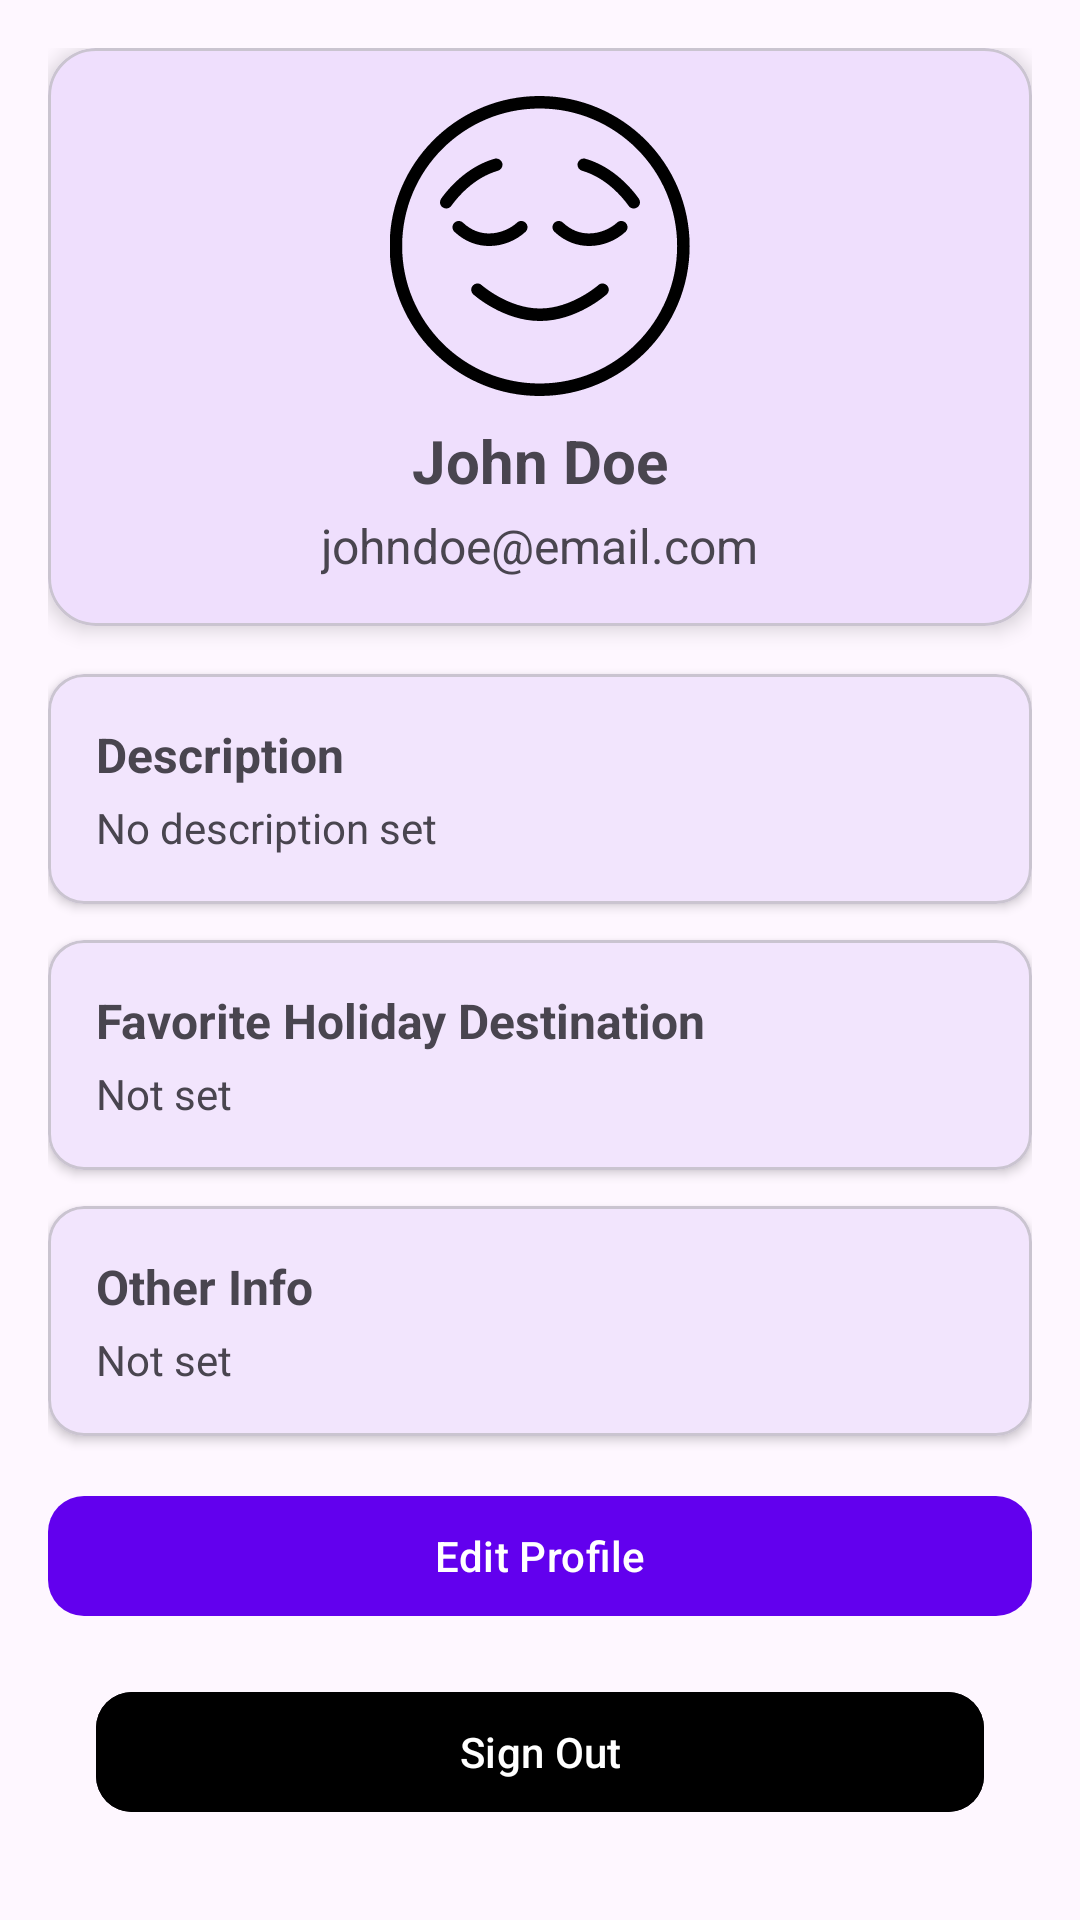

Icons on this 1080 x 1920 Android screen, each with its box as (x1,y1,x2,y2):
user: (390,96,690,396)
